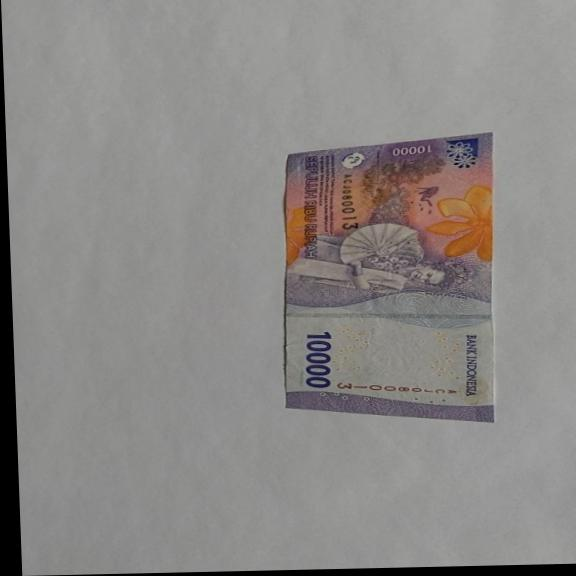Kertas: (274, 132, 503, 428), (302, 330, 336, 389)
